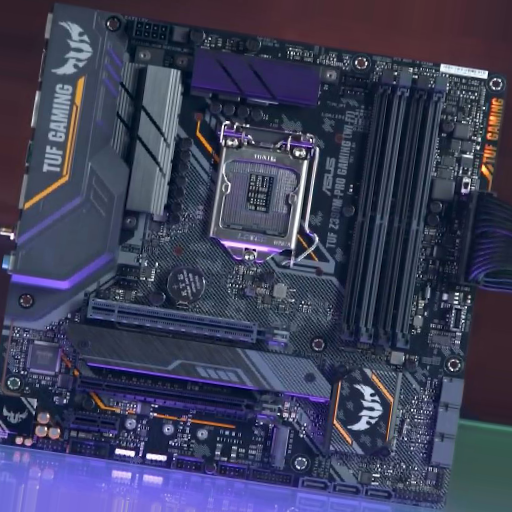CPU: (210, 124, 316, 261)
GPU: (86, 296, 291, 347), (76, 375, 281, 423)
MOTHERBOARD: (11, 5, 493, 503)
RAM: (344, 68, 447, 347)
SSD: (267, 423, 292, 471)
